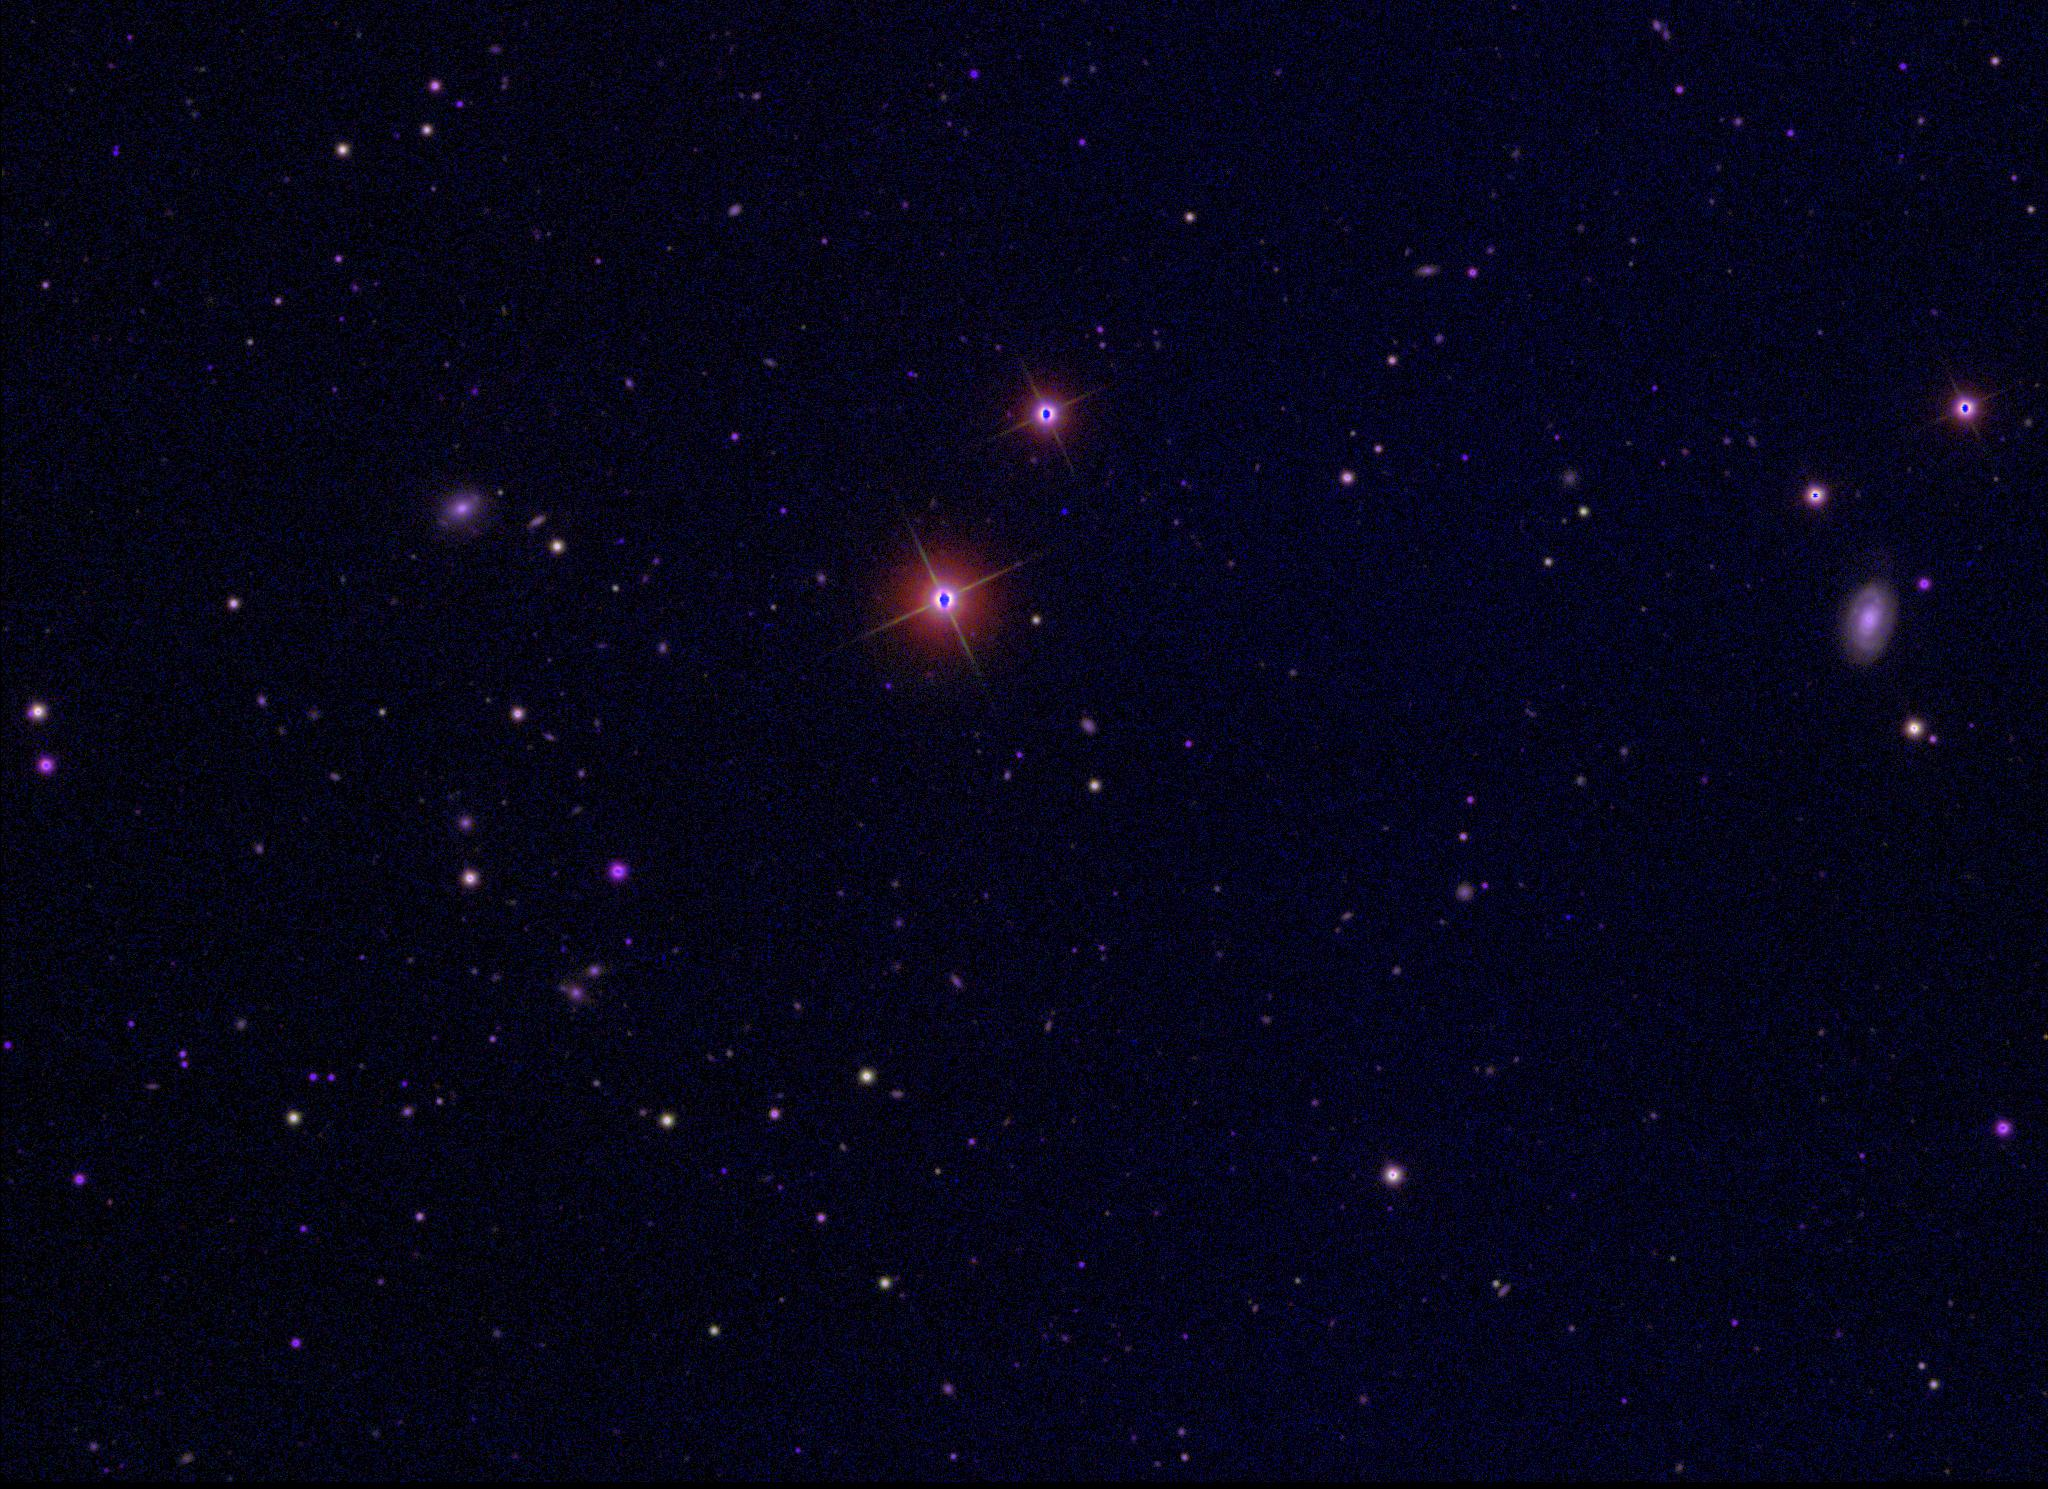L: (1057, 503, 1072, 517)
